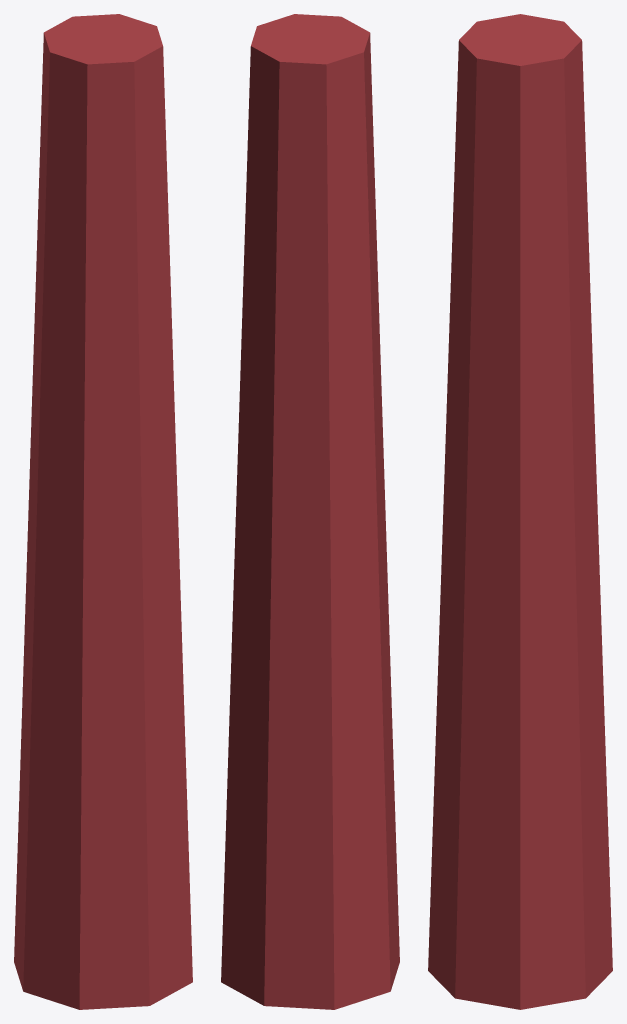
File: wk_muscle_upper_arm_v01.glb
3 renders of one model, left to right at view 1: azimuth 30°, elevation 25°; view 2: azimuth 150°, elevation 25°; view 3: azimuth 270°, elevation 25°, orthographic.
Parts seen in each view (by area): view 1: GEO_Muscle_upper_arm; view 2: GEO_Muscle_upper_arm; view 3: GEO_Muscle_upper_arm.
Boxes of the visible parts, x1=… form: GEO_Muscle_upper_arm: x1=14, y1=14, x2=192, y2=1009; GEO_Muscle_upper_arm: x1=221, y1=14, x2=399, y2=1009; GEO_Muscle_upper_arm: x1=428, y1=14, x2=612, y2=1009.
Size of the model in its own units: 0.18 by 1 by 0.18.
